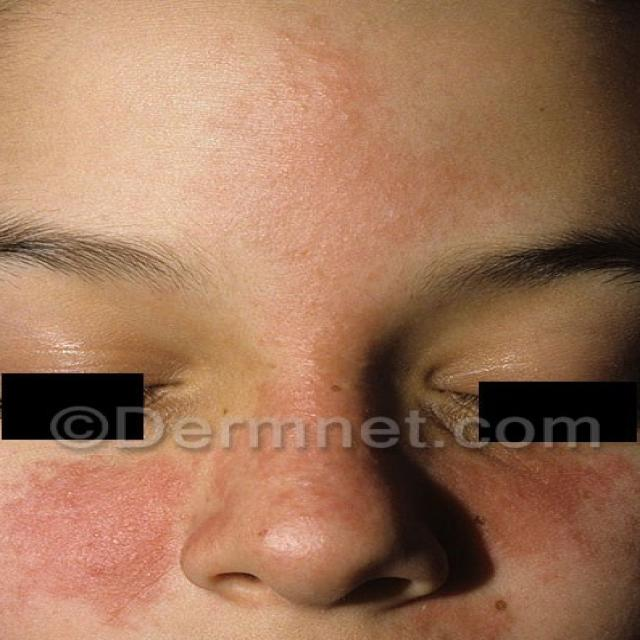Acne: (215, 38, 498, 191), (0, 447, 205, 639), (421, 441, 640, 569), (345, 598, 579, 640)
